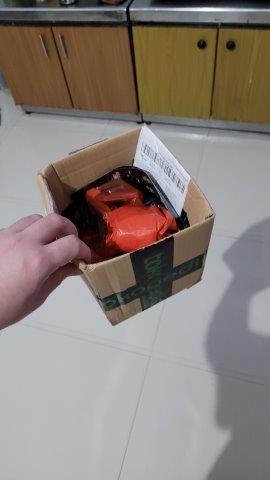kardus: (39, 124, 216, 325)
